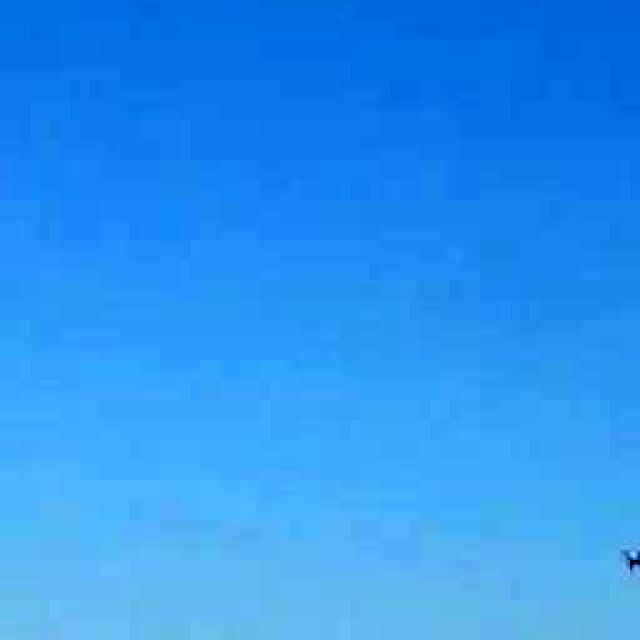bird: (606, 531, 640, 586)
